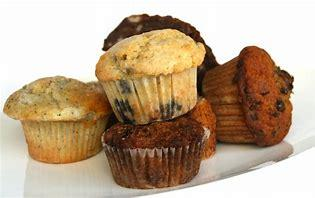muffin: (94, 30, 205, 123), (217, 46, 295, 163), (6, 74, 103, 160), (105, 122, 208, 192)
